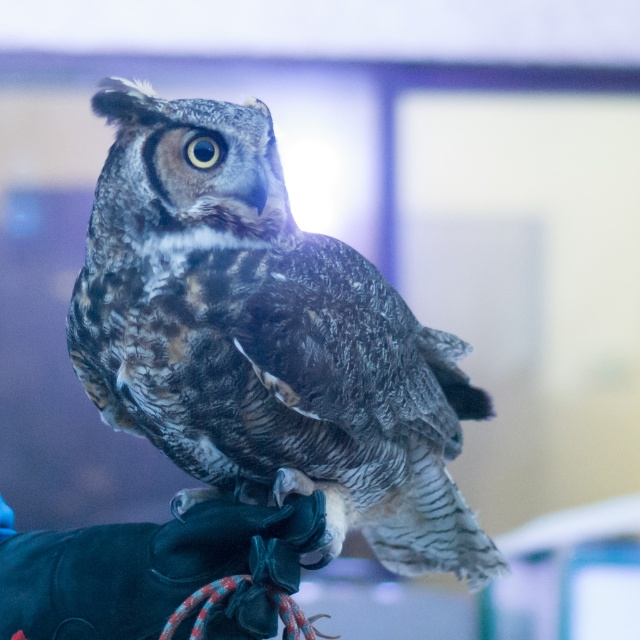Owl: (59, 74, 510, 595)
